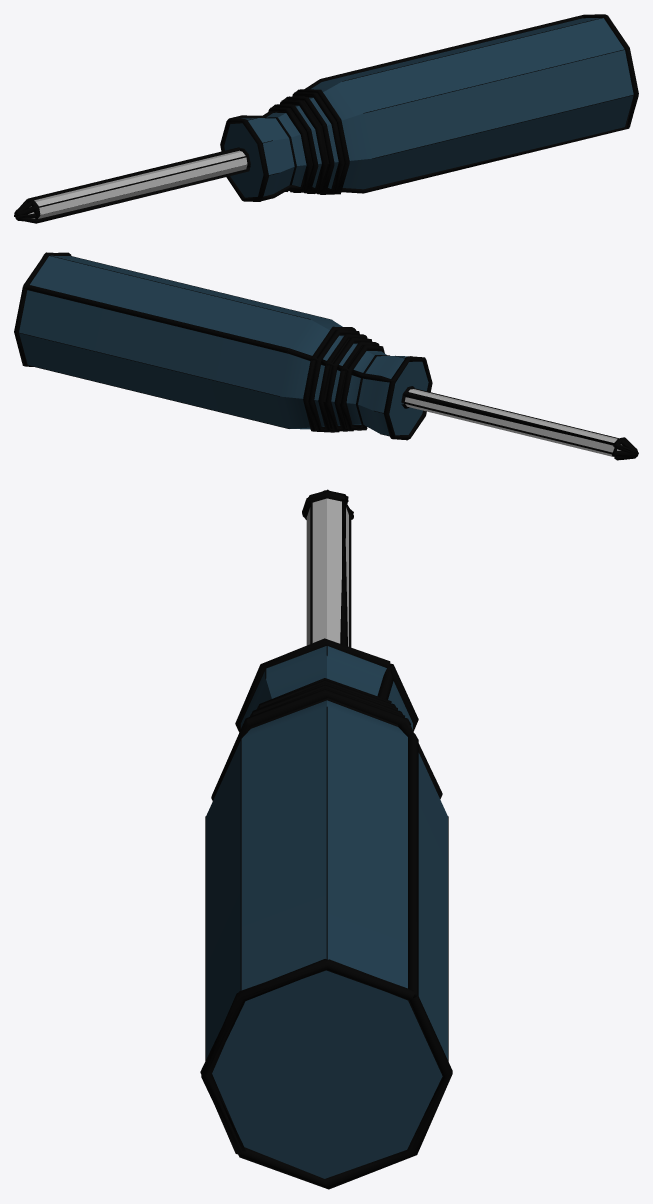
File: Screwdriver2.fbx
The picture shows the model from 3 angles, top to bottom: view 1: azimuth 30°, elevation 25°; view 2: azimuth 150°, elevation 25°; view 3: azimuth 270°, elevation 25°; orthographic projection. The views are drawn at different scales.
Visible parts, largest first — view 1: pCylinder1, Main; view 2: pCylinder1, Main; view 3: pCylinder1, Main.
Part boxes in pixels (x1=…): pCylinder1: x1=28, y1=18, x2=633, y2=218; Main: x1=14, y1=14, x2=638, y2=223; pCylinder1: x1=19, y1=255, x2=621, y2=457; Main: x1=14, y1=252, x2=638, y2=460; pCylinder1: x1=206, y1=498, x2=447, y2=1178; Main: x1=200, y1=489, x2=452, y2=1189.
Bounding box in the file's own units: 11.3 × 2.08 × 2.08.
